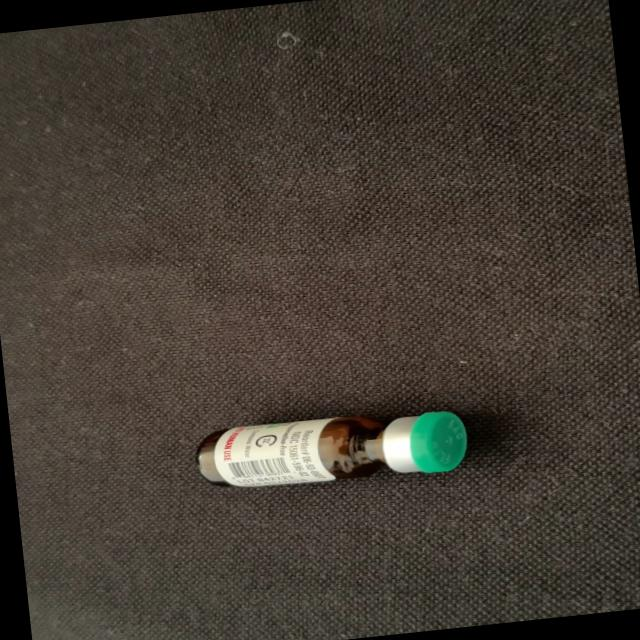midazolm: (197, 402, 466, 494)
